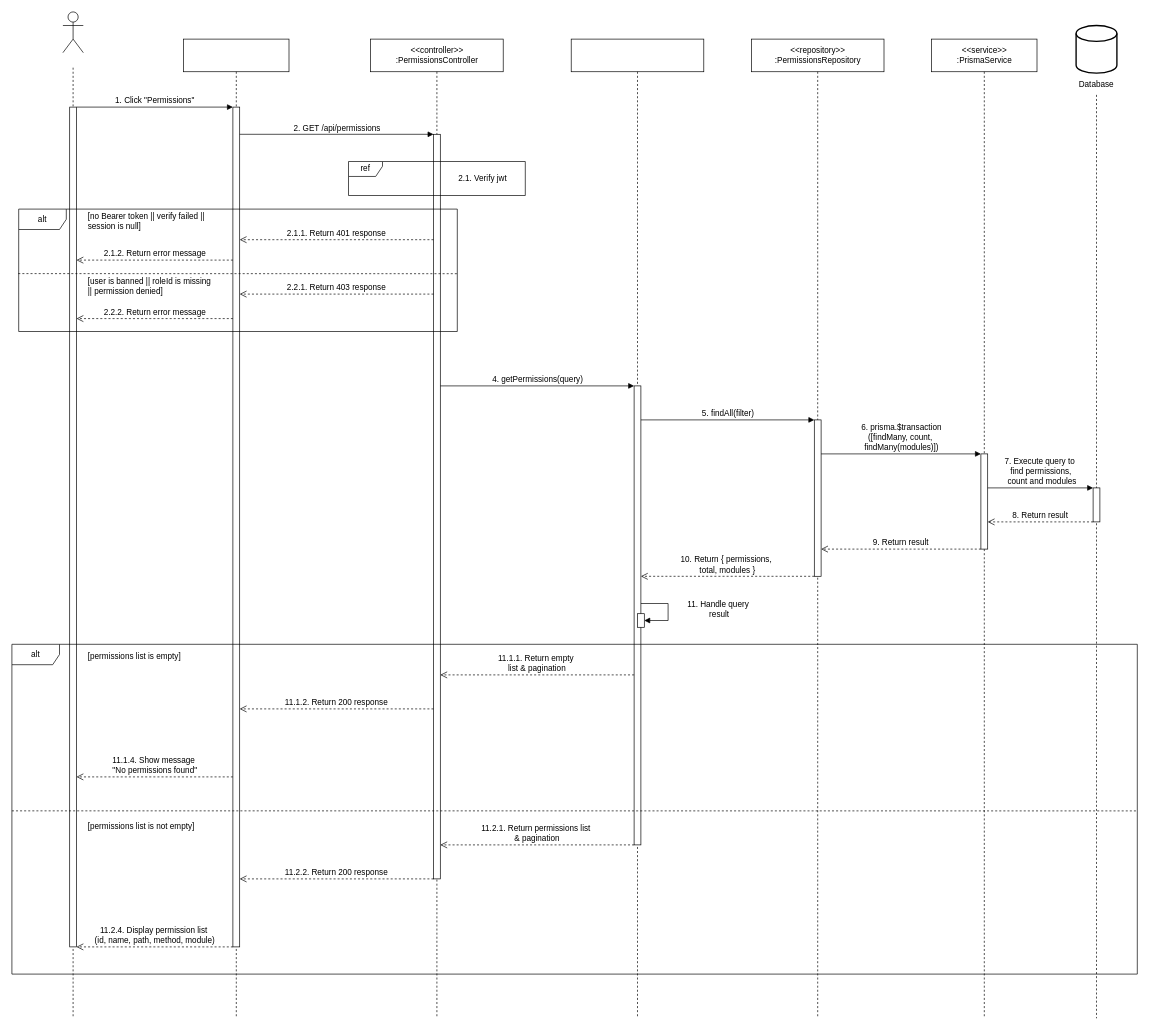
Some shapes in this 1150 by 1031 pixel diagram are drawn without their labels. Each missing label, with the box of its shape:
<<boundary>> PermissionView: (183, 38, 289, 1018)
<<service>> :PermissionsService: (571, 38, 704, 1018)
Admin: (62, 11, 83, 53)
